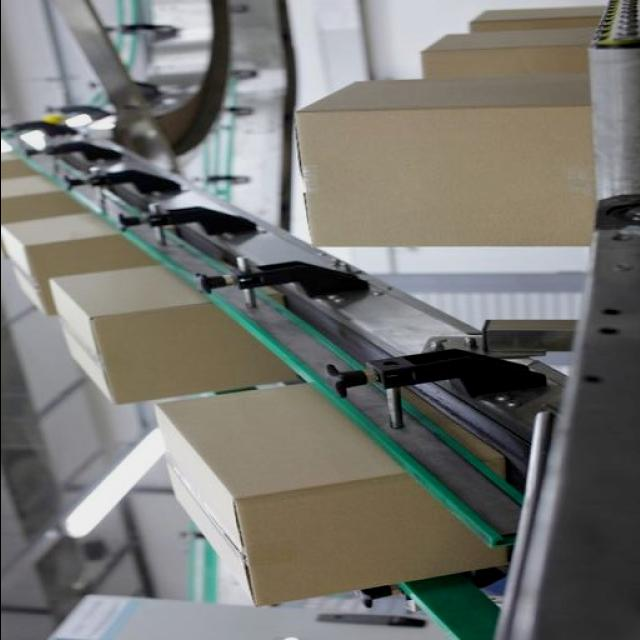conveyor: (0, 151, 515, 640)
